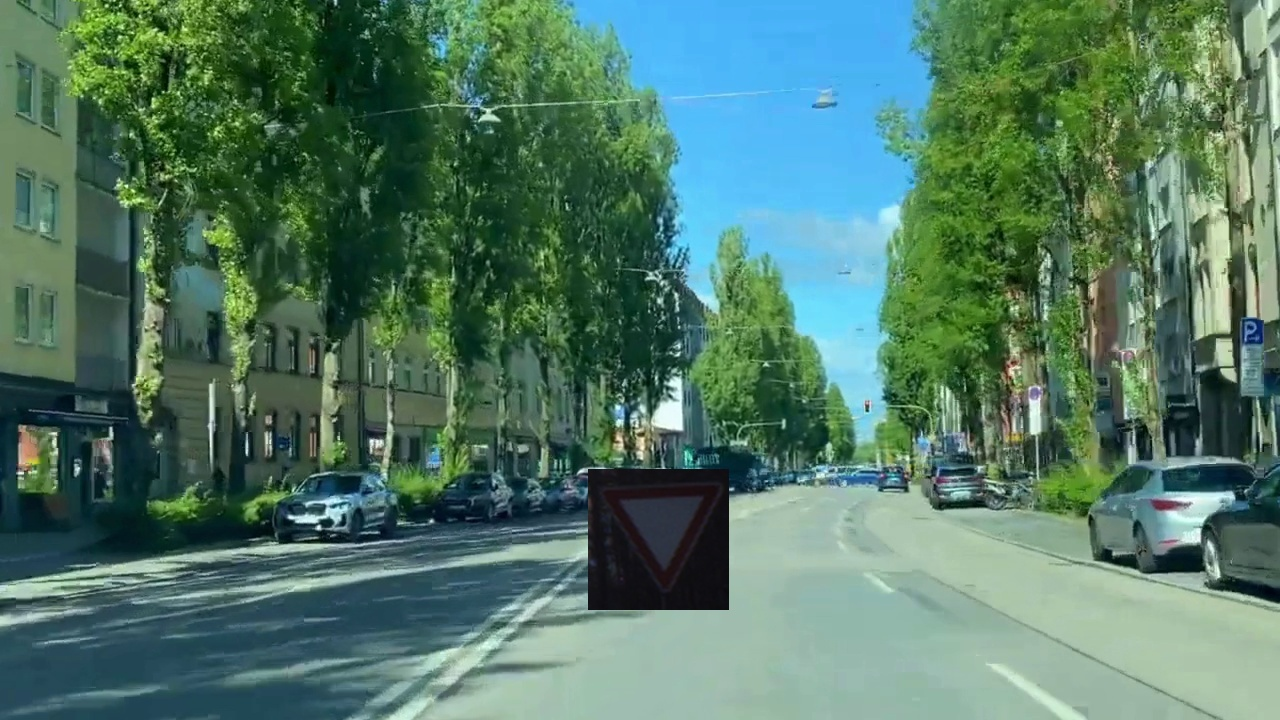Yield: (588, 469, 729, 610)
